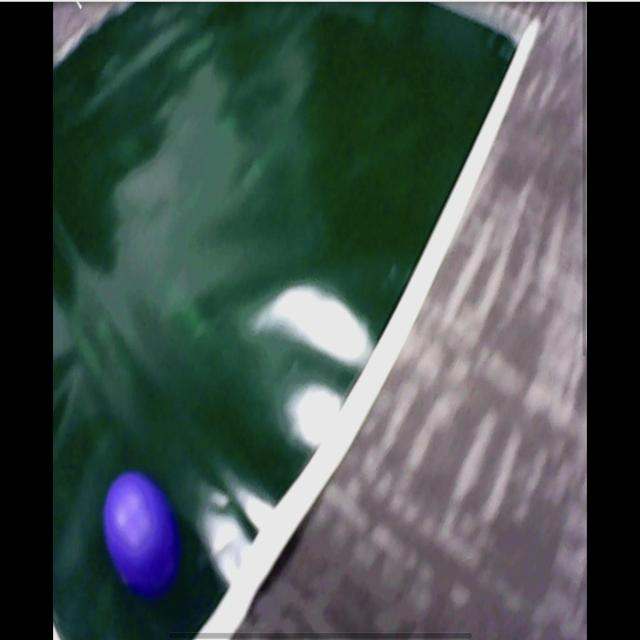ball: (106, 475, 181, 598)
